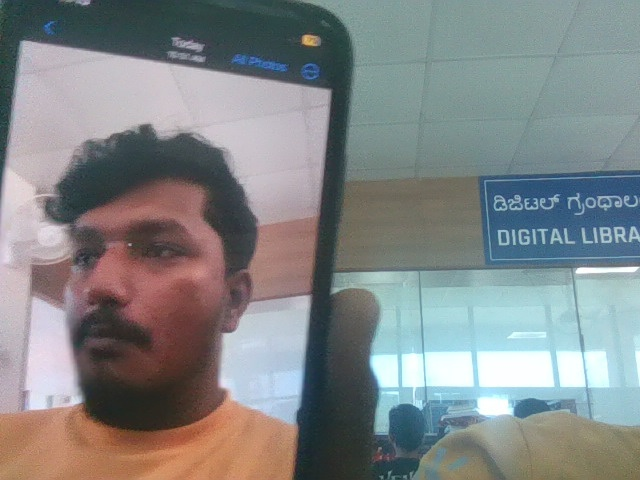fake: (38, 101, 256, 410)
